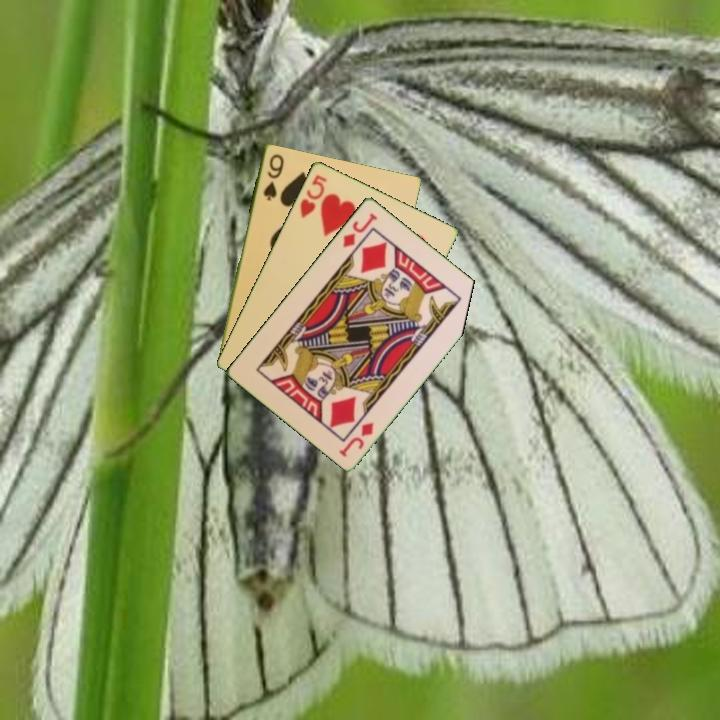5h: (296, 171, 330, 220)
9s: (259, 150, 287, 203)
Jd: (335, 418, 377, 460), (339, 209, 380, 250)
